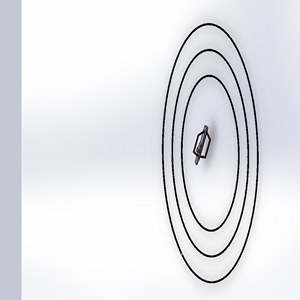circle: (147, 18, 268, 291)
submarine: (192, 122, 217, 173)
